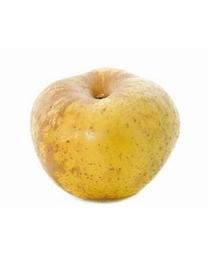apple: (29, 66, 179, 200)
